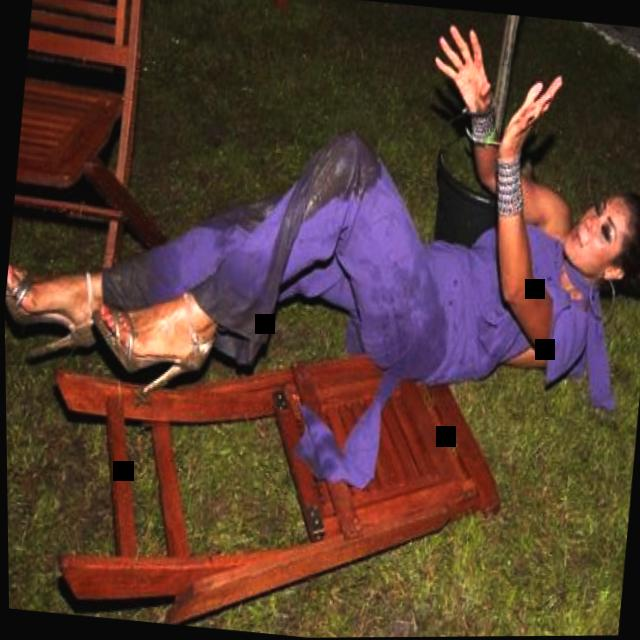Fall-Detected: (0, 0, 640, 473)
